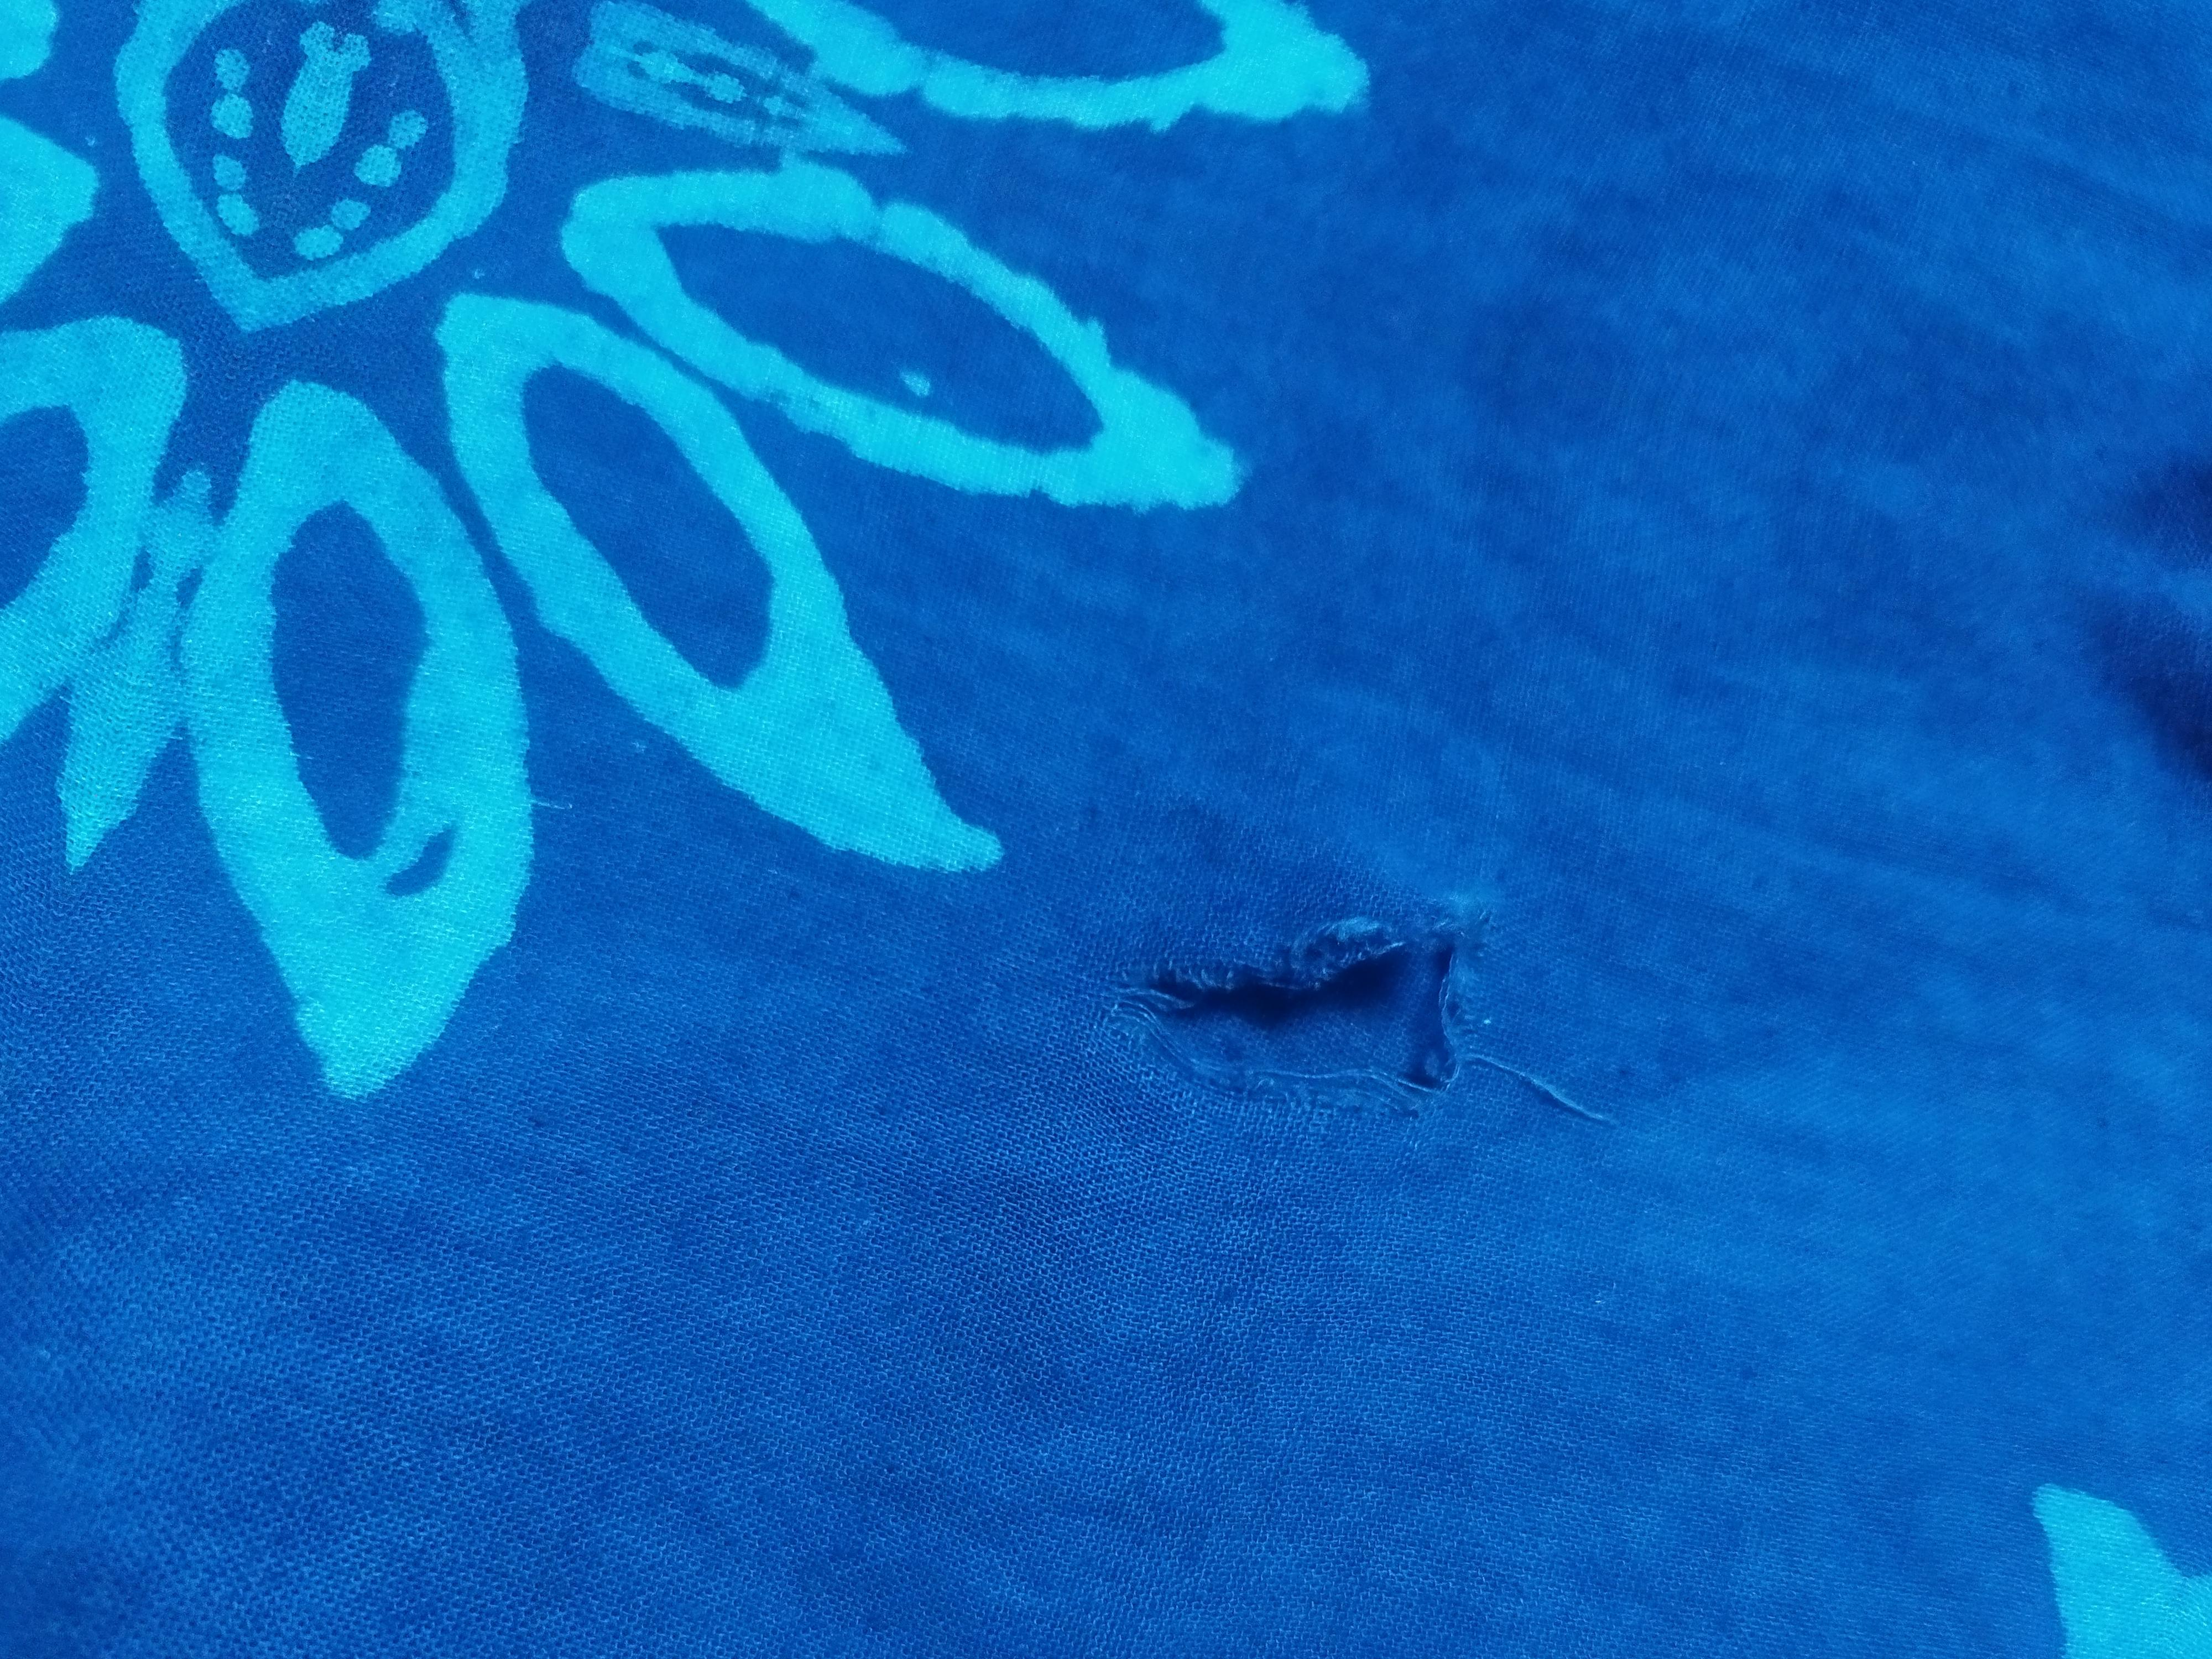hole: (1082, 897, 1524, 1129)
